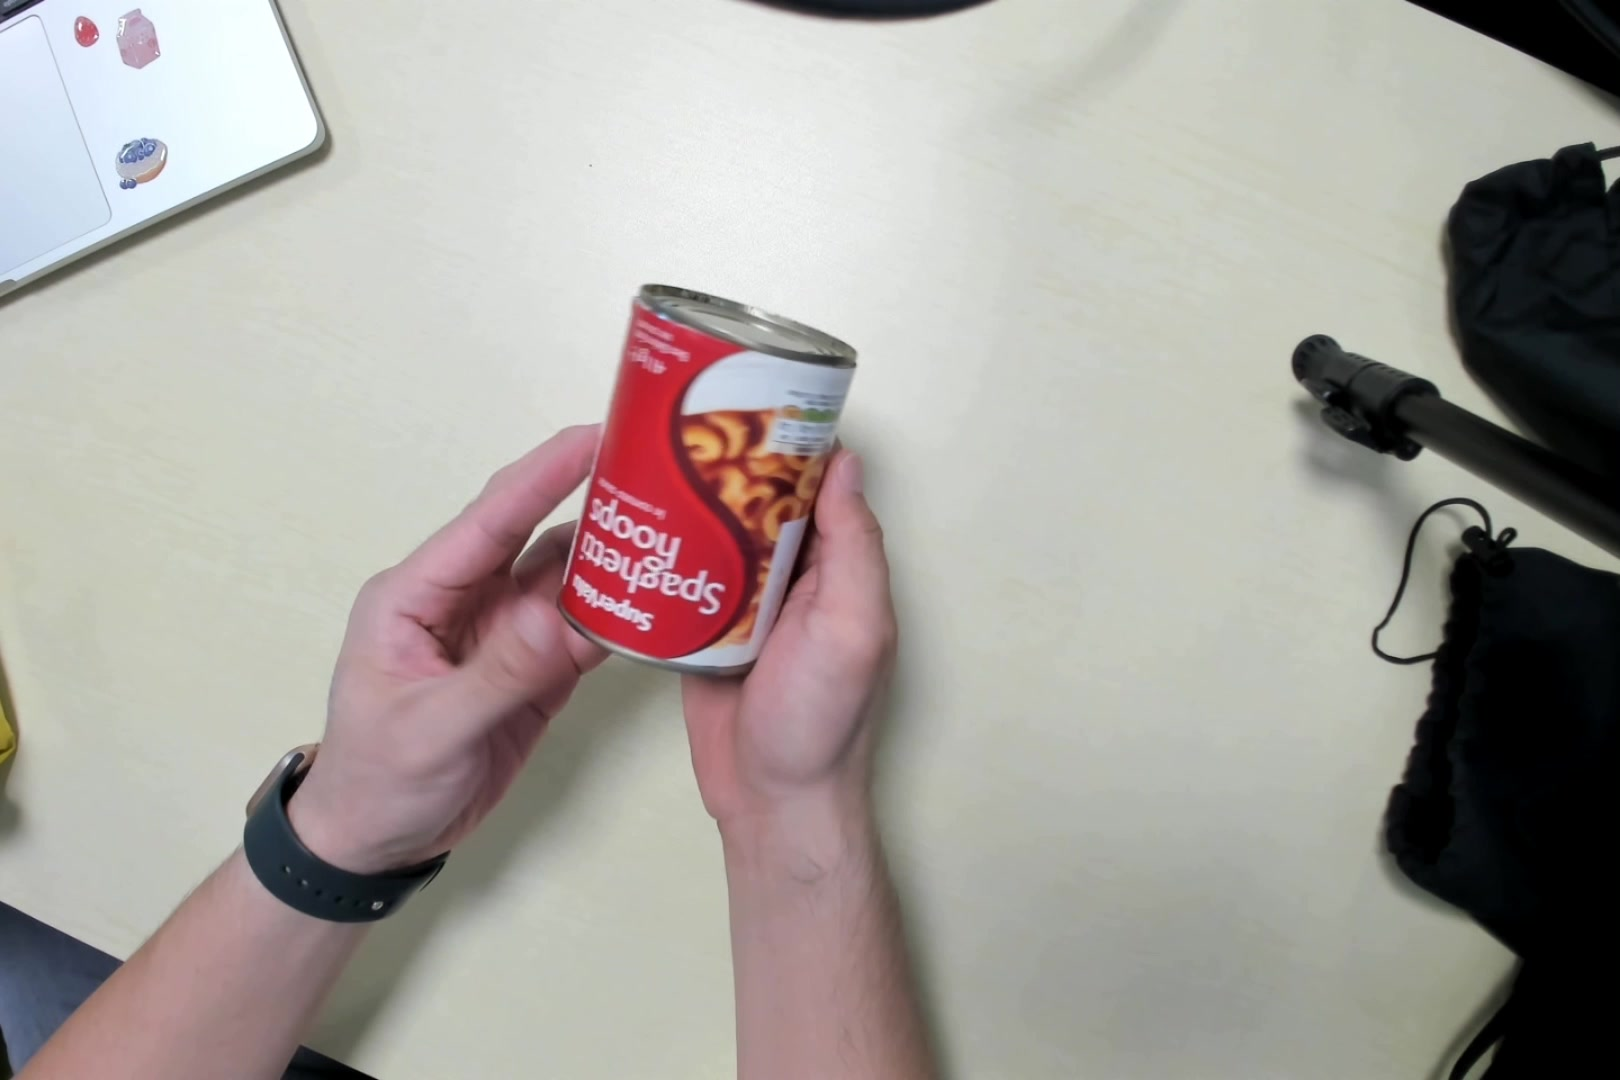InstantMeals_400-499g_NonHalal_NonHealthy: (568, 274, 856, 675)
